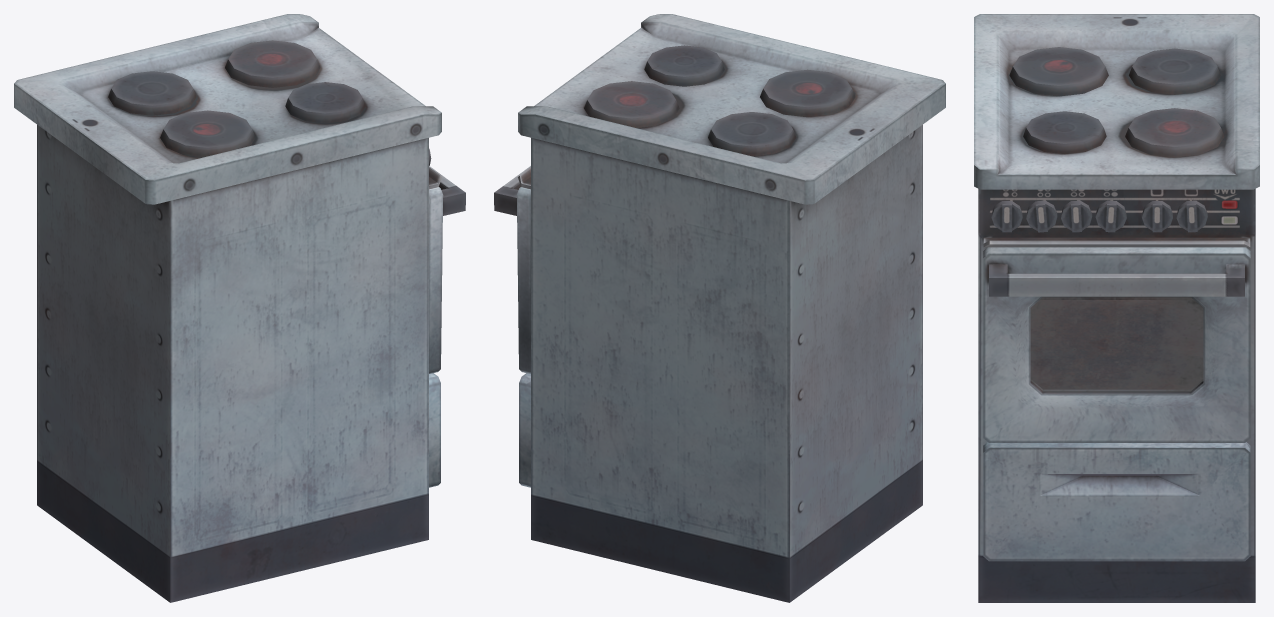
Rendered from oven.glb.
3 views of the same model, side by side, from view 1: azimuth 30°, elevation 25°; view 2: azimuth 150°, elevation 25°; view 3: azimuth 270°, elevation 25° (orthographic). The views are drawn at different scales.
Visible parts, largest first — view 1: MSH_Oven, MSH_OvenDoor; view 2: MSH_Oven, MSH_OvenDoor; view 3: MSH_Oven, MSH_OvenDoor.
Part boxes in pixels (bbox=[...]): MSH_Oven: bbox=[14, 14, 441, 602]; MSH_OvenDoor: bbox=[429, 166, 465, 373]; MSH_Oven: bbox=[518, 14, 945, 602]; MSH_OvenDoor: bbox=[494, 166, 530, 373]; MSH_Oven: bbox=[974, 14, 1259, 602]; MSH_OvenDoor: bbox=[983, 247, 1250, 442].
Size of the model in its own units: 0.6744 by 0.8501 by 0.4944.
Materials: 1 (1 with a texture image).
